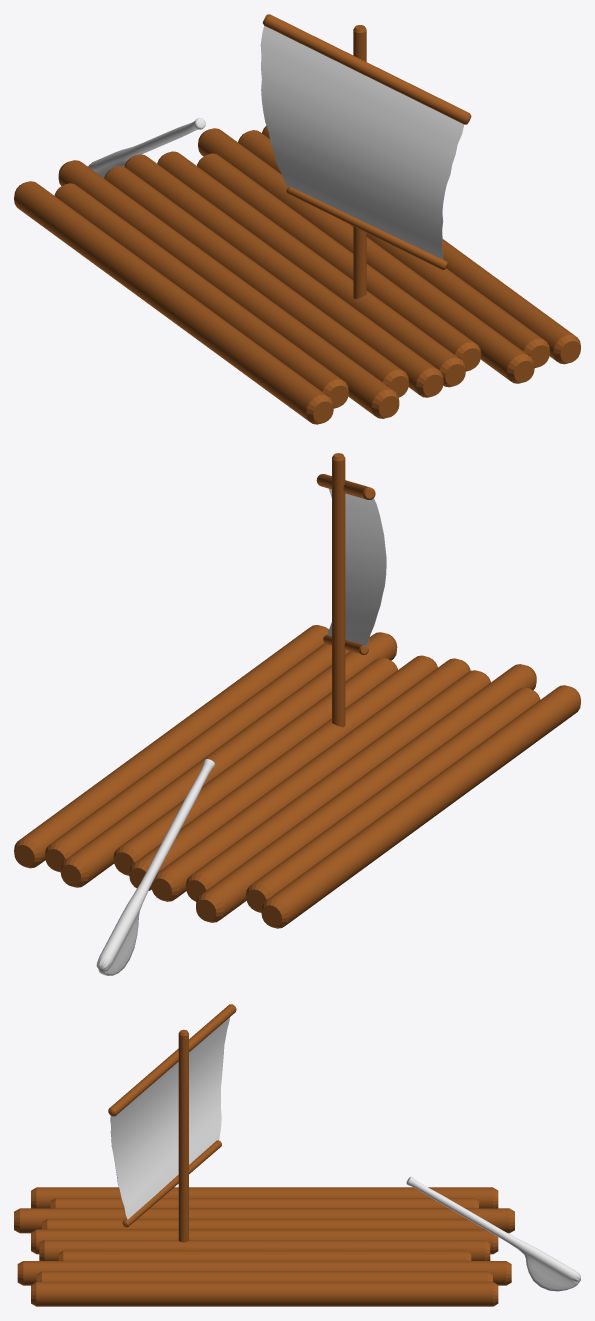
Rendered from fullRaft.FBX.
3 renders of one model, top to bottom at view 1: azimuth 30°, elevation 25°; view 2: azimuth 150°, elevation 25°; view 3: azimuth 270°, elevation 25°, orthographic. The views are drawn at different scales.
Visible parts, largest first — view 1: Raft, Box001, Sail, Sail001, Cylinder001, Mast; view 2: Raft, Box001, Mast, Cylinder001; view 3: Raft, Box001, Cylinder001, Mast, Sail, Sail001.
Boxes of the visible parts, box(x1,y1,x2,y2) form: Raft: box(14, 125, 580, 424); Box001: box(260, 25, 464, 259); Sail: box(262, 14, 471, 124); Sail001: box(286, 187, 447, 270); Cylinder001: box(88, 118, 205, 178); Mast: box(353, 25, 366, 298); Raft: box(14, 625, 580, 928); Box001: box(327, 488, 386, 649); Mast: box(332, 453, 345, 727); Cylinder001: box(96, 759, 215, 975); Raft: box(14, 1187, 514, 1306); Box001: box(110, 1017, 229, 1219); Cylinder001: box(406, 1176, 580, 1291); Mast: box(178, 1029, 188, 1242); Sail: box(108, 1004, 236, 1116); Sail001: box(122, 1140, 221, 1227).
Bounding box in the file's own units: 78.24 × 179 × 93.5.
